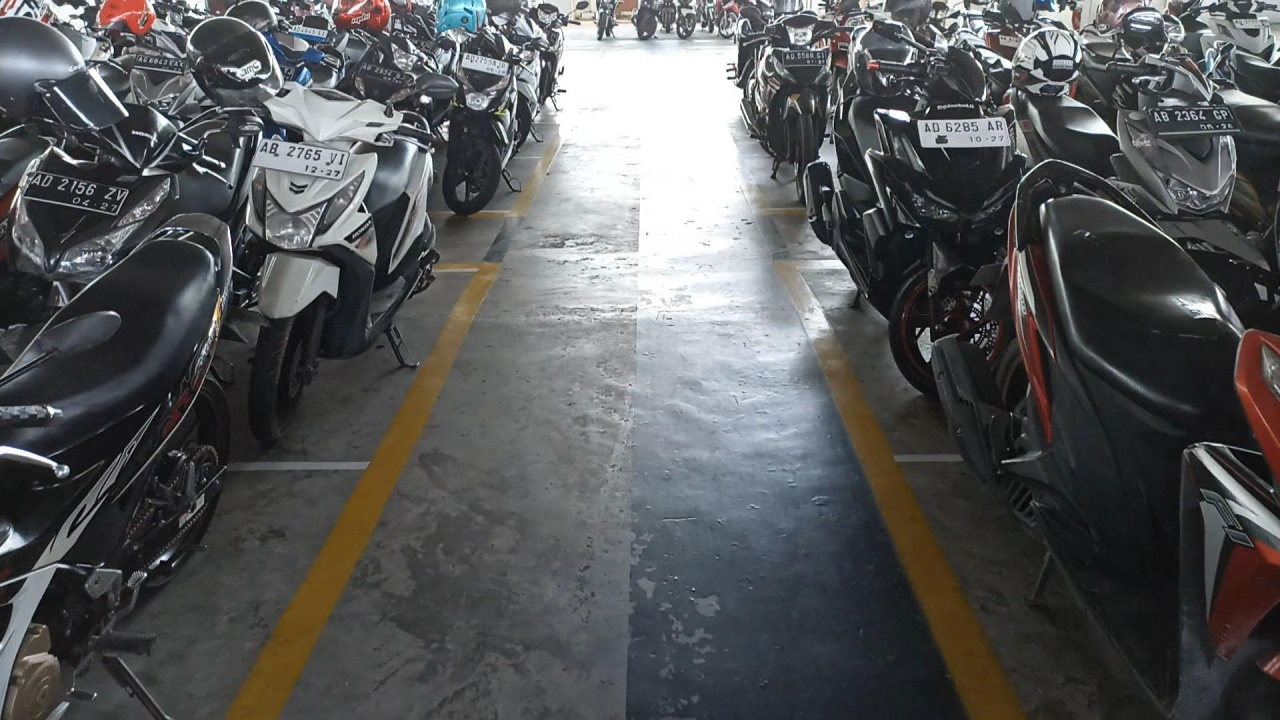plate: (23, 171, 129, 215), (250, 138, 351, 181), (1146, 105, 1244, 137), (917, 116, 1011, 148), (461, 52, 509, 77)
